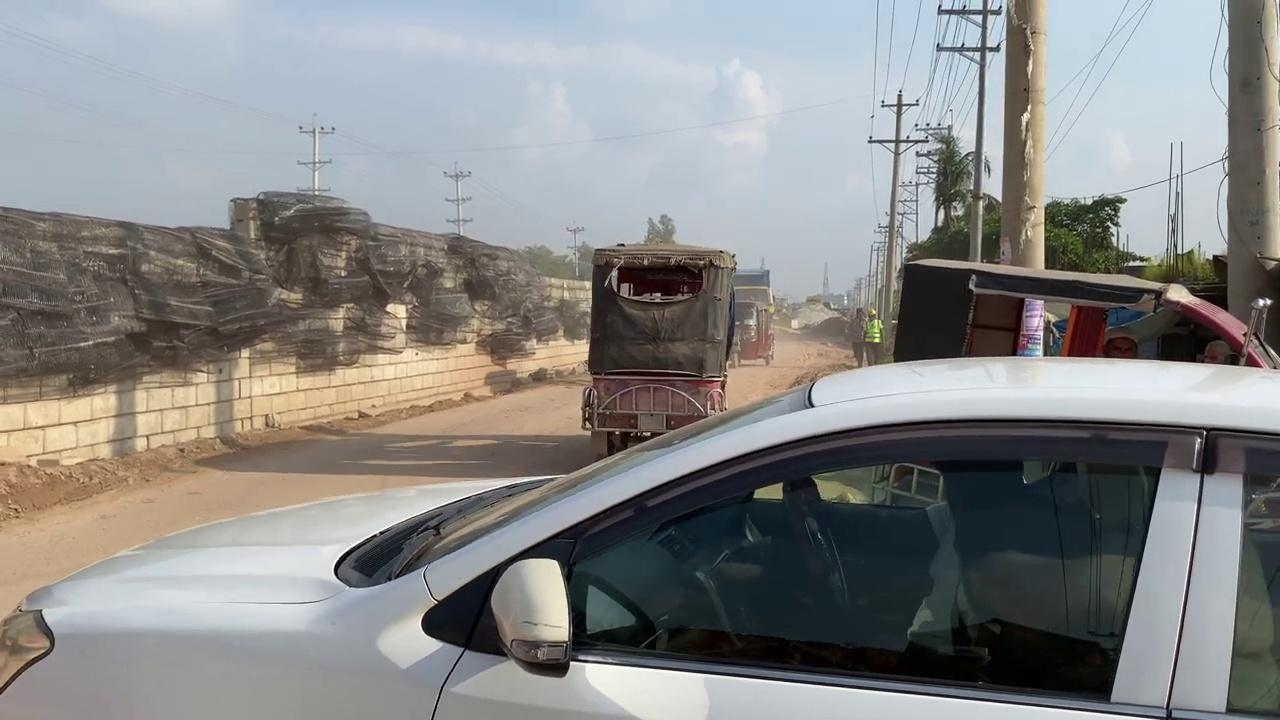Car: (71, 345, 1279, 715)
Pole: (1223, 0, 1279, 362), (999, 0, 1048, 355), (867, 89, 927, 353)
Sidewalk: (1015, 297, 1045, 357)
Traffic-sign: (914, 123, 991, 231)
Tree: (579, 242, 737, 456), (729, 266, 775, 366)
Upstairs: (0, 194, 593, 466)
